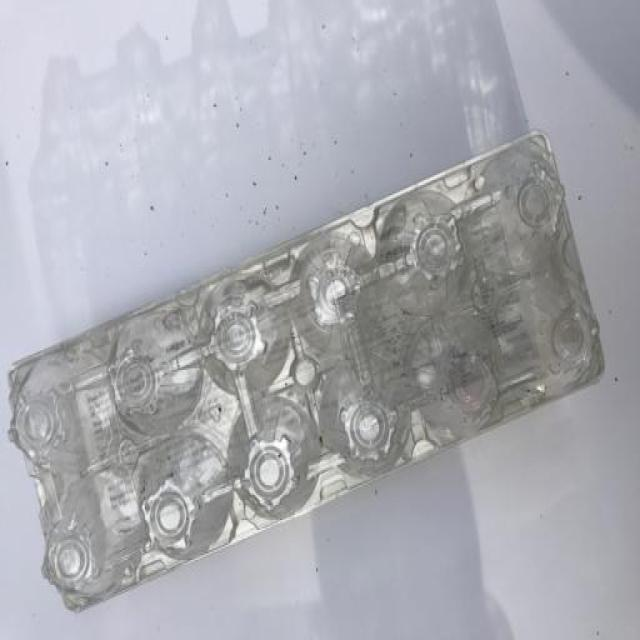plastic: (6, 125, 604, 612)
